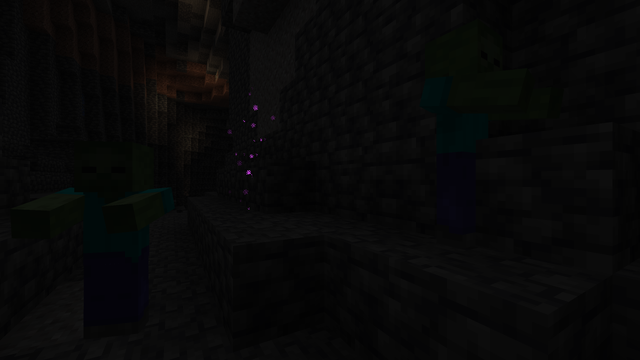zombies: (417, 20, 512, 254), (71, 144, 152, 355)
